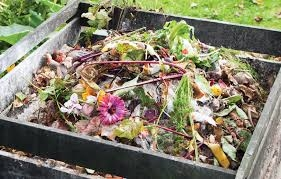kitchen_waste: (171, 73, 197, 152), (156, 18, 198, 61), (79, 5, 119, 48), (92, 92, 129, 123), (109, 114, 146, 138)
